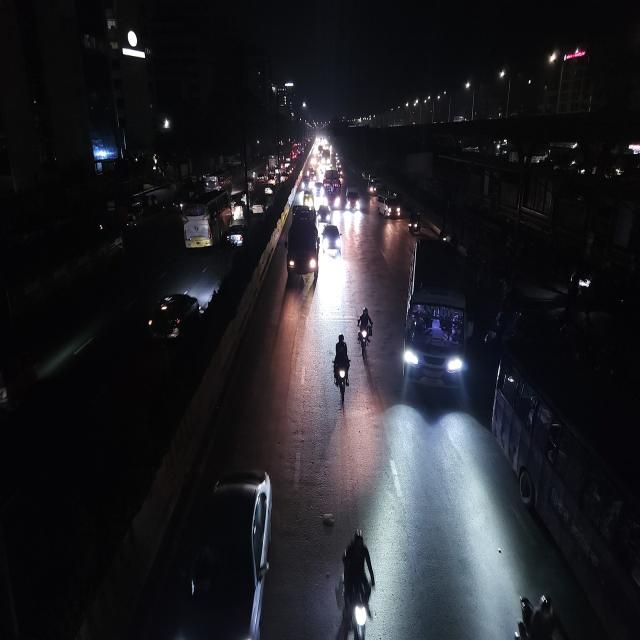bus: (490, 333, 640, 640), (402, 233, 472, 393), (181, 188, 233, 254), (322, 169, 342, 206)
car: (180, 466, 276, 640), (146, 286, 204, 358), (374, 185, 403, 222), (322, 221, 344, 260), (225, 219, 247, 253), (249, 192, 267, 220), (344, 185, 362, 213), (316, 202, 332, 227), (254, 168, 268, 182), (264, 181, 276, 196)
cng: (407, 209, 423, 237), (232, 193, 246, 222), (302, 188, 314, 208)
motorcycle: (335, 524, 378, 640), (512, 591, 569, 640), (328, 329, 352, 403), (355, 304, 374, 356)
truck: (285, 203, 320, 289)
